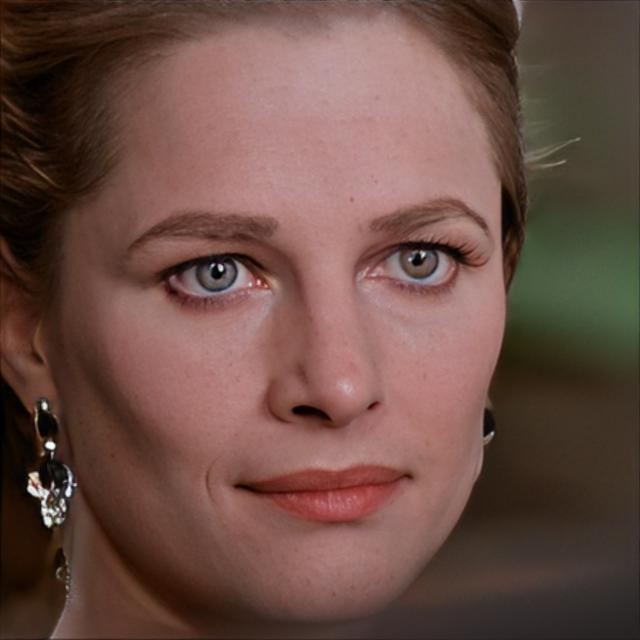neutral: (44, 3, 508, 627)
